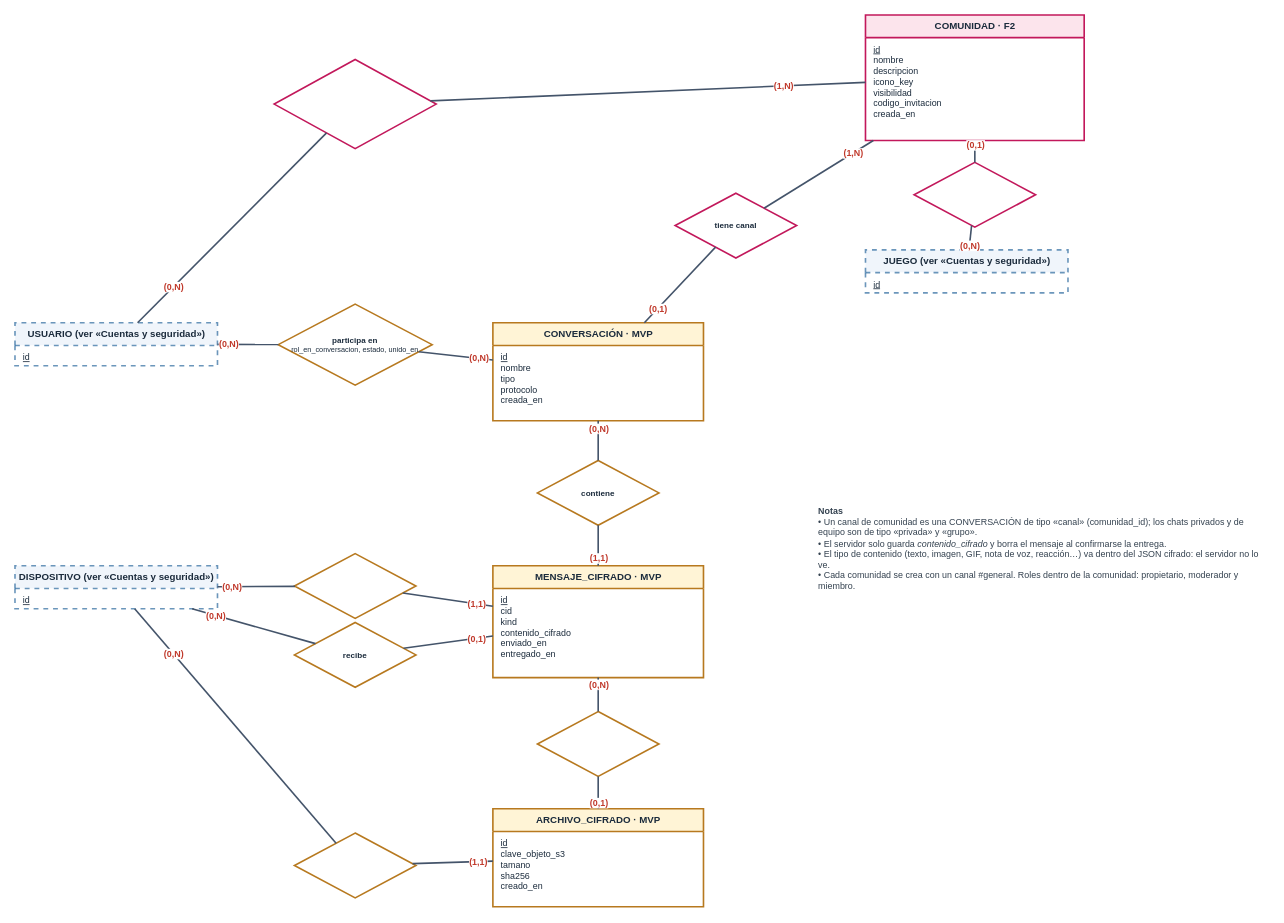
Image size: 1284x923. Some labels were removed from this diagram. Each missing label, with the centre of its shape:
adjunta: (597,743)
emite: (354,585)
es miembro de rol_en_comunidad, estado, unido_en: (355,103)
sube: (354,865)
trata de: (974,194)
